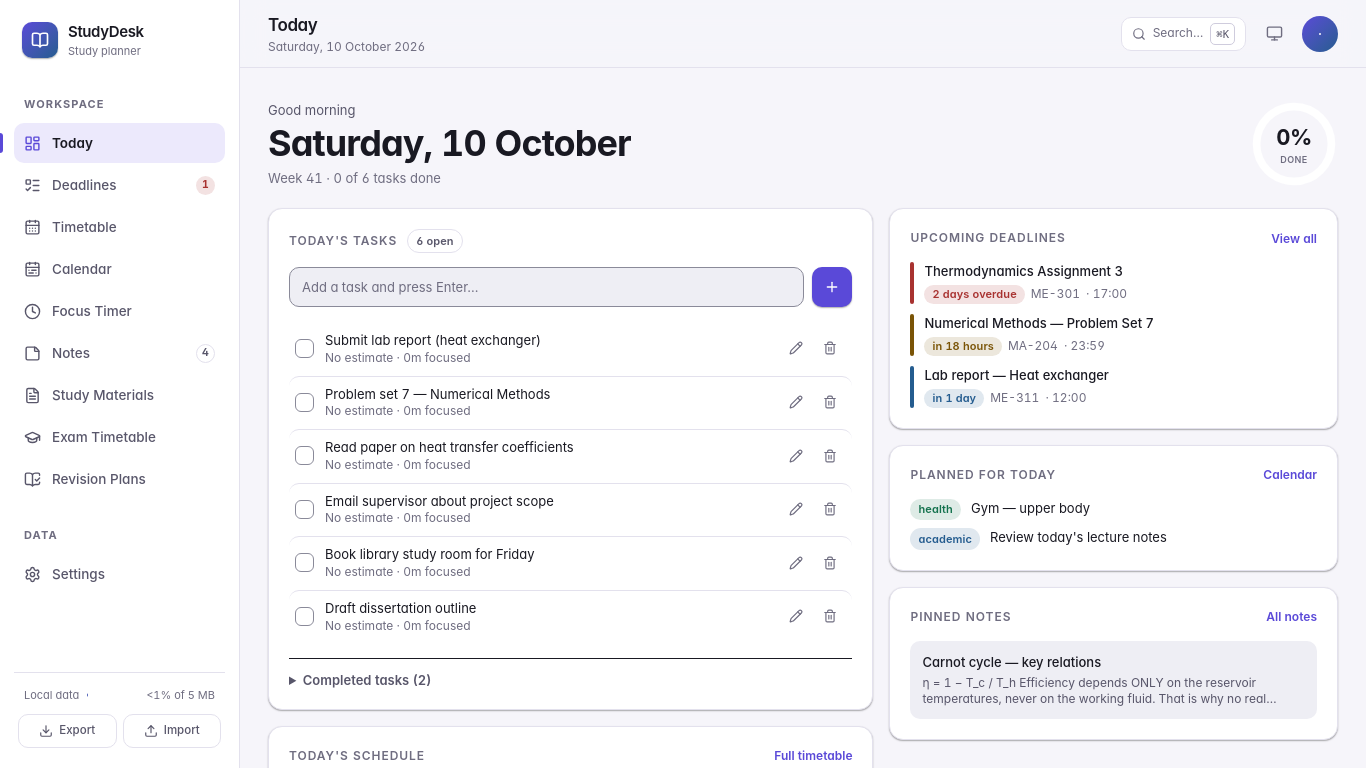
timetable rendering › notes preview › opens a read-only preview from the note card while keeping edit separate
Click the link "Notes 4".
click(71, 353)  # box [24,344,215,363]
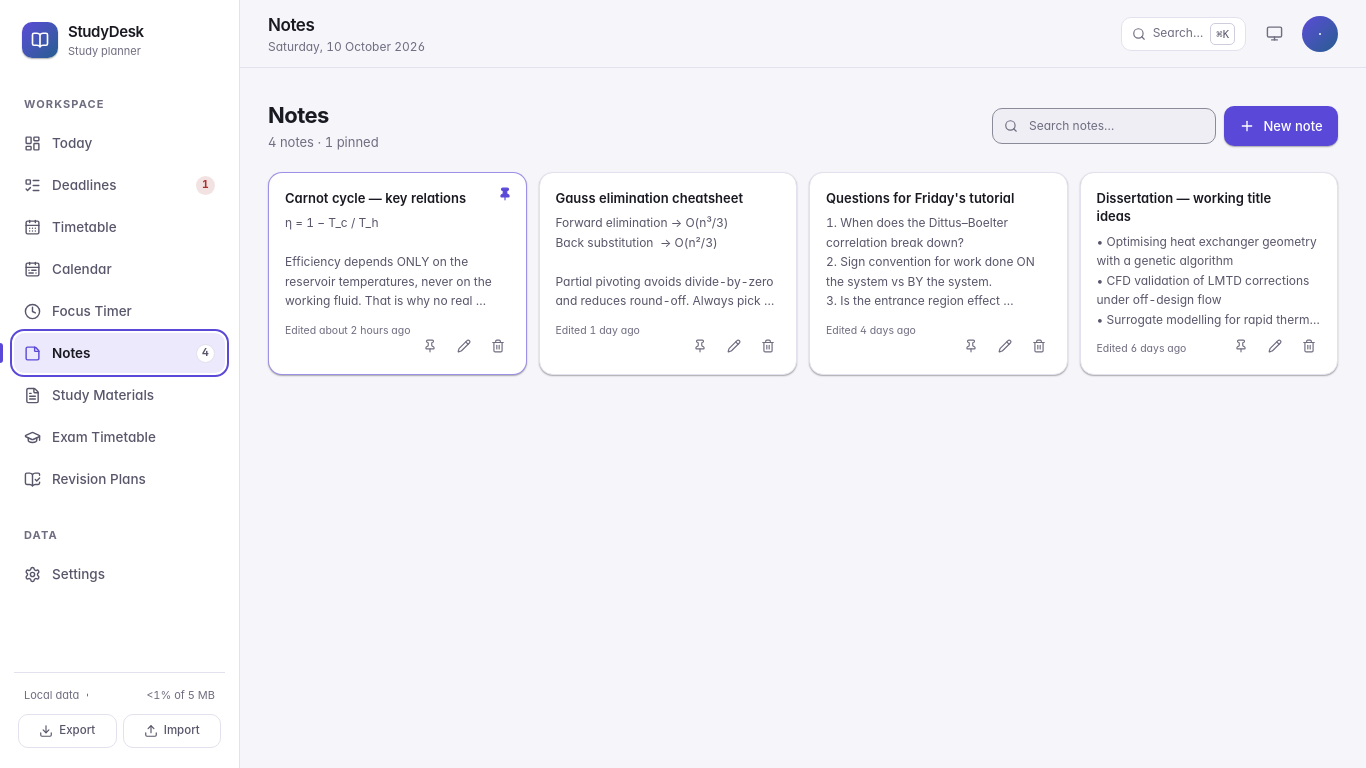
Click the heading "Carnot cycle — key relations".
click(376, 198)  # box [285,190,466,206]
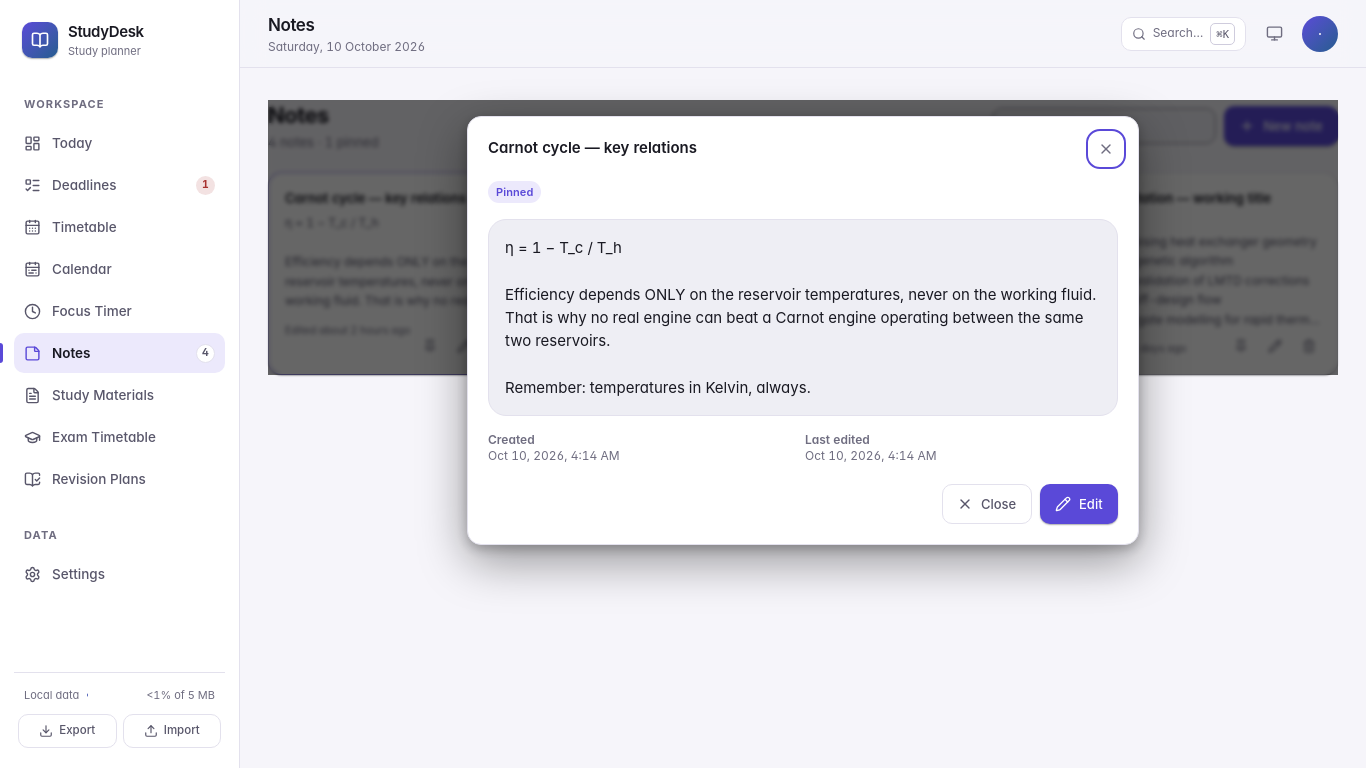
Result: the text "Efficiency depends ONLY on the reservoir temperatures" is shown at [505,238,1100,397]
Result: the text "Created" is shown at [488,432,535,447]
Click the button "Edit".
click(1079, 504)  # box [1040,484,1118,524]
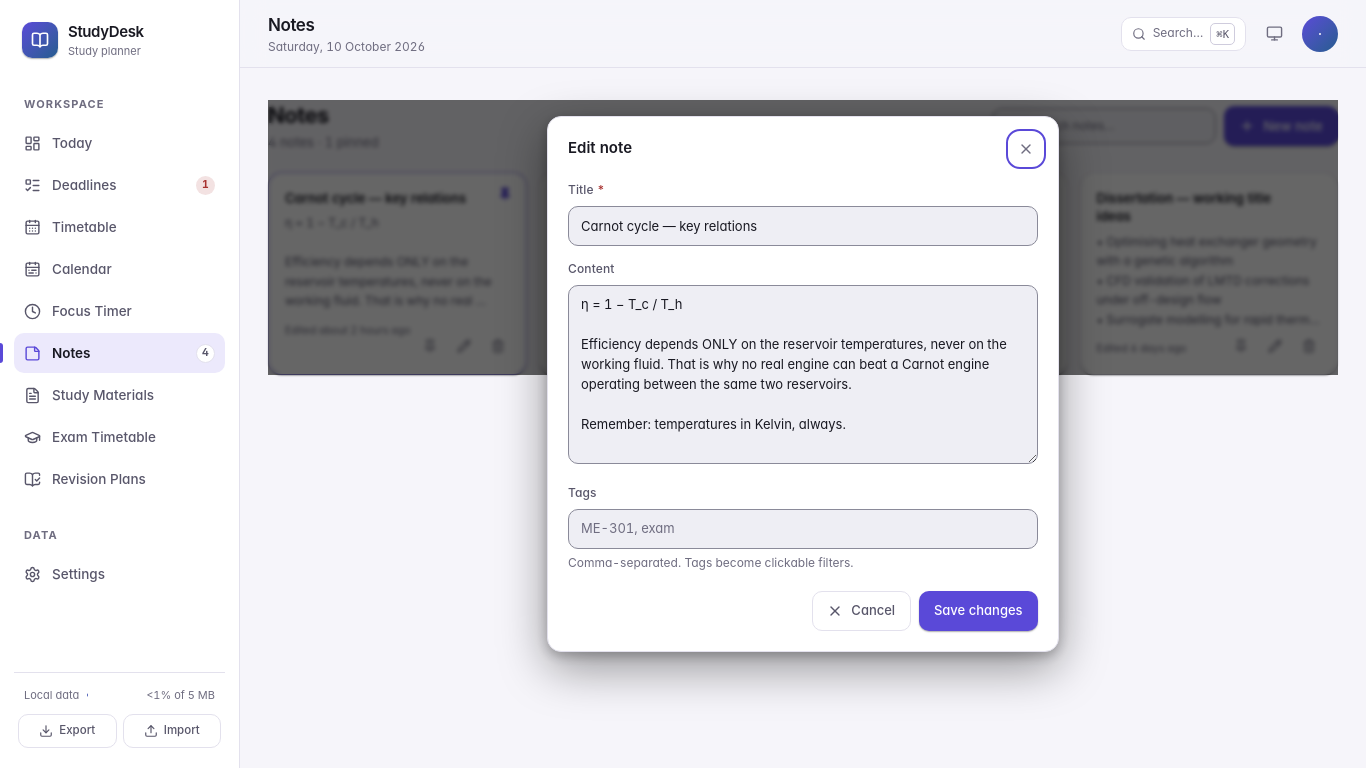
Result: the dialog "Edit note" is shown at [547,116,1059,652]
Result: the field labelled "Title *" holds "Carnot cycle — key relations" at [568,206,1038,246]
